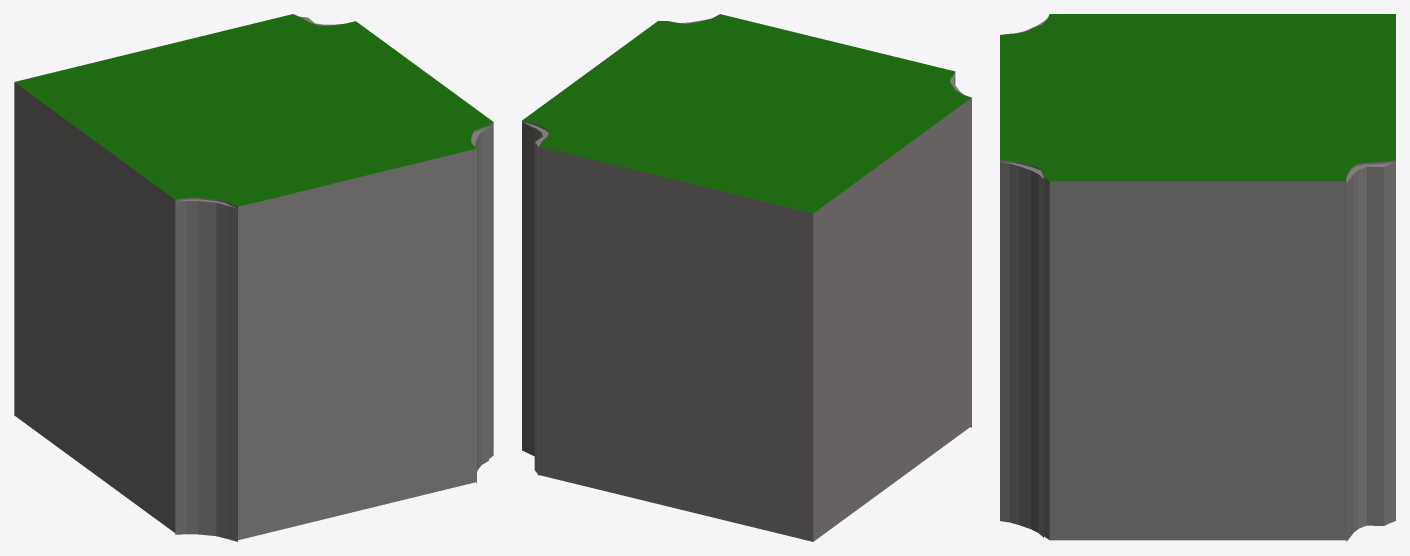
File: TripleWedge.fbx
3 renders of one model, left to right at view 1: azimuth 30°, elevation 25°; view 2: azimuth 150°, elevation 25°; view 3: azimuth 270°, elevation 25°, orthographic. The views are drawn at different scales.
Parts seen in each view (by area): view 1: Plane.011; view 2: Plane.011; view 3: Plane.011.
Boxes of the visible parts, x1,y1,x2,y2 form: Plane.011: (14,14,493,541); Plane.011: (522,14,971,541); Plane.011: (1000,14,1395,541).
Size of the model in its own units: 100 by 101 by 100.
